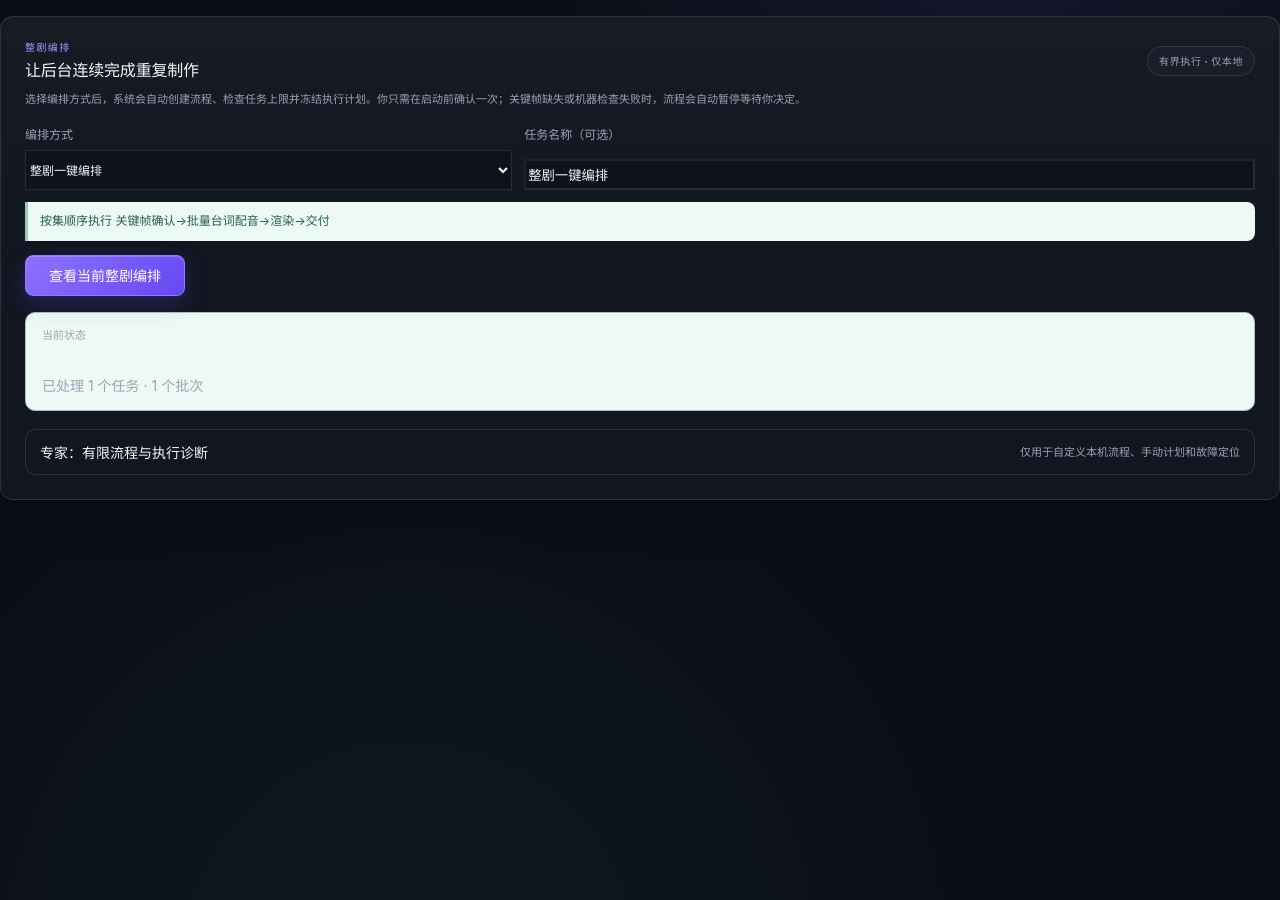
Test: AutomationWorkflowPanel › restores an active whole-drama run after remount instead of creating or planning it again
Click the button "查看当前整剧编排" at [105, 276], box [25,255,185,296]
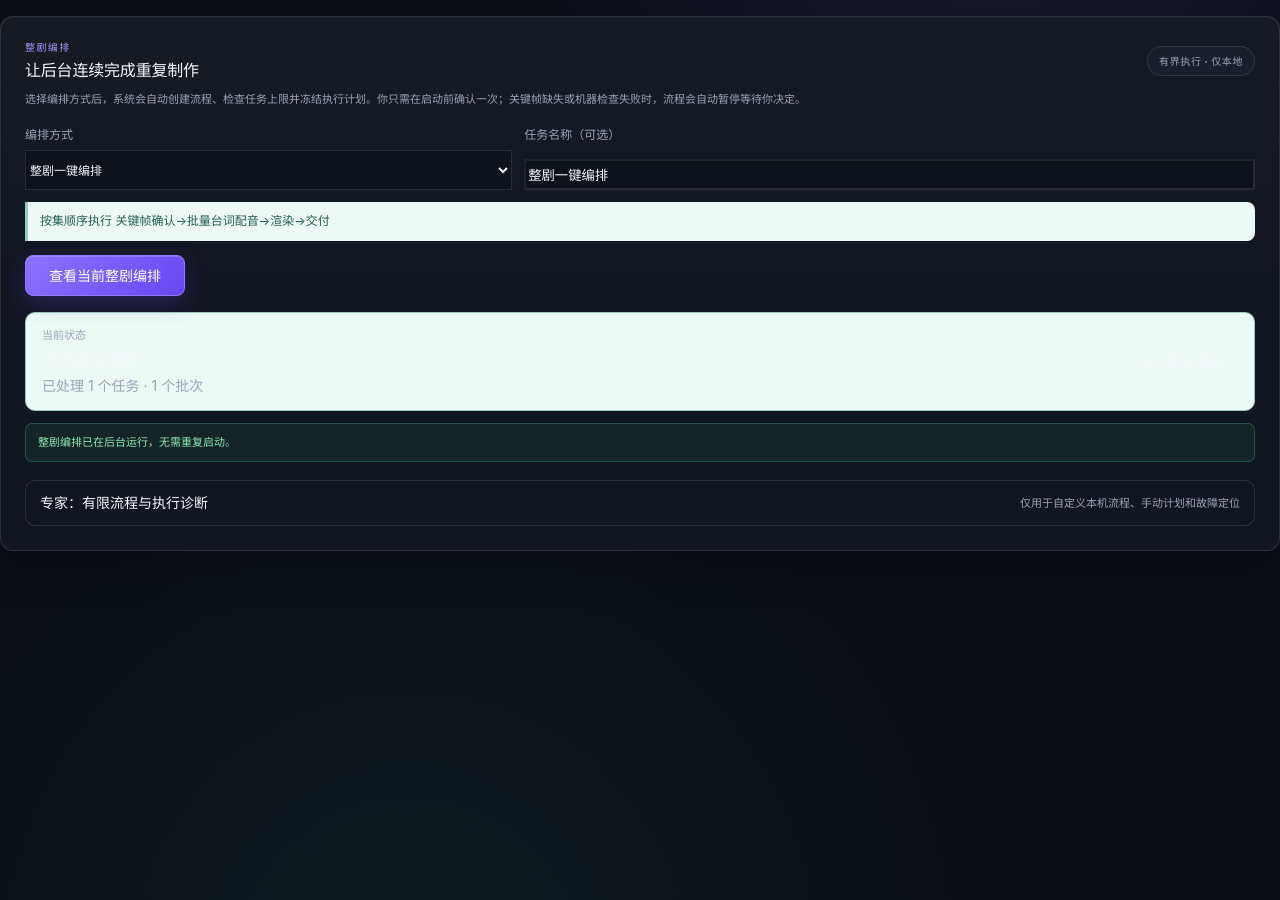
Now the text "整剧编排已在后台运行，无需重复启动。" is shown, box [25,424,1255,462]
